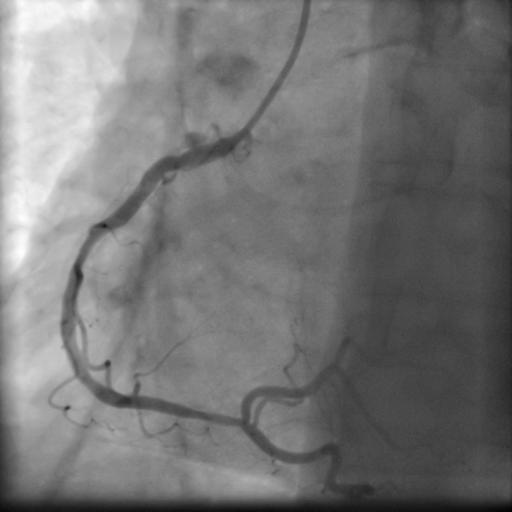Stenosis: (182, 400, 246, 434)
